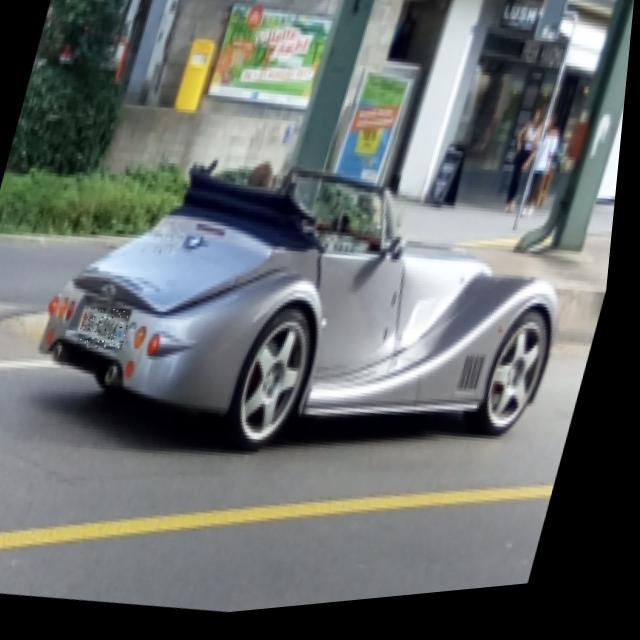license_plate: (82, 304, 139, 357)
